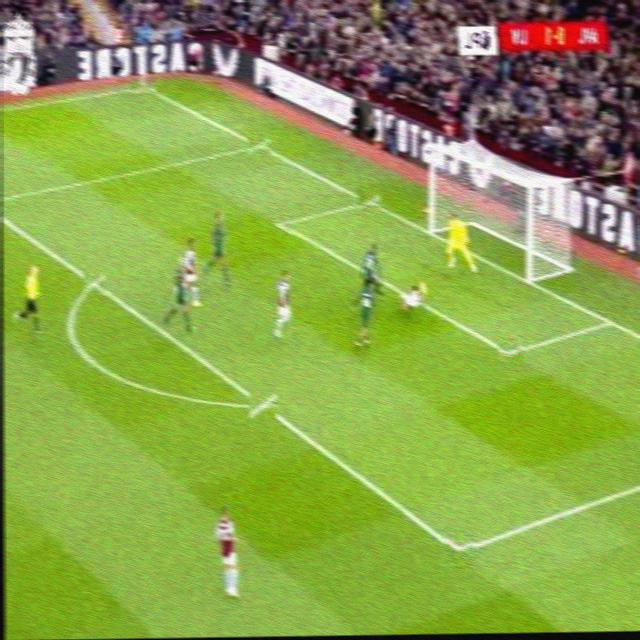bigarea_bottom_inner: (444, 531, 475, 569)
bigarea_top_outter: (248, 132, 270, 156)
bottom_arc_area_intersection: (248, 387, 277, 420)
corner: (131, 77, 155, 94)
smallarea_bottom_inner: (497, 334, 523, 370)
smallarea_bottom_outter: (598, 306, 622, 335)
smallarea_top_inner: (271, 210, 294, 236)
smallarea_top_outter: (357, 186, 381, 216)
top_arc_area_intersection: (84, 269, 105, 295)
